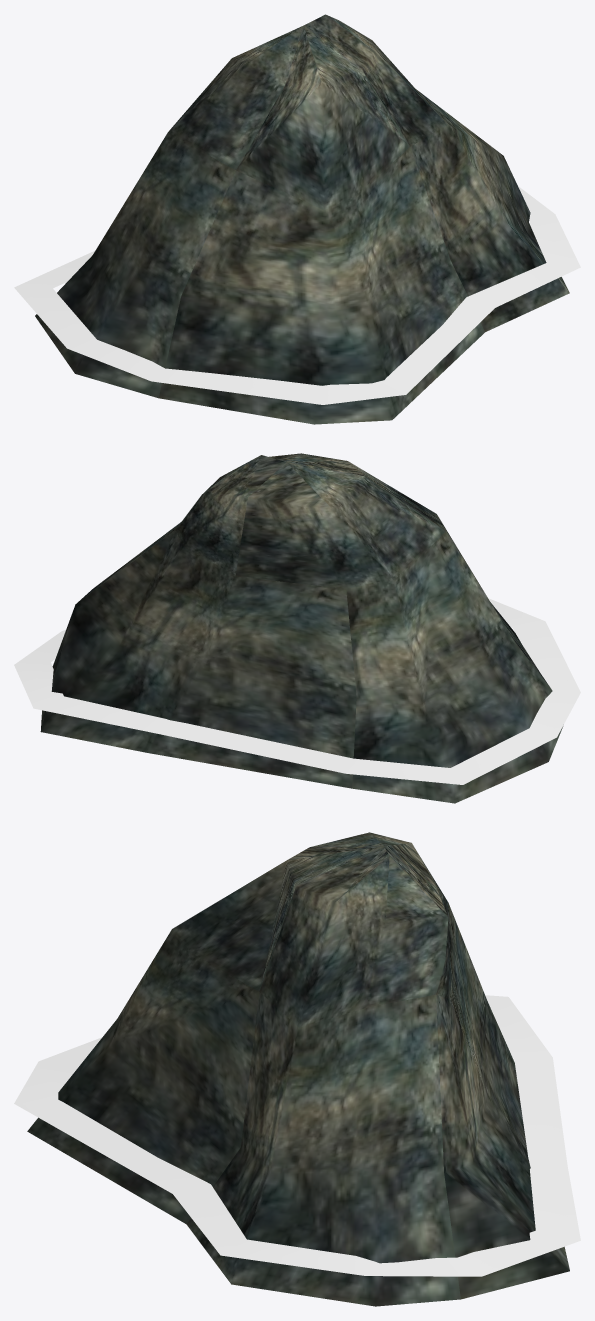
Rendered from pir_m_are_isl_rockBig_dock_lod.fbx.
3 views of the same model, one above another, from view 1: azimuth 30°, elevation 25°; view 2: azimuth 150°, elevation 25°; view 3: azimuth 270°, elevation 25° (orthographic). The views are drawn at different scales.
Parts seen in each view (by area): view 1: terrain_mesh, mesh_tide; view 2: terrain_mesh, mesh_tide; view 3: terrain_mesh, mesh_tide.
Boxes of the visible parts, left/top/right/bottom form: terrain_mesh: left=35, top=14, right=569, bottom=424; mesh_tide: left=14, top=186, right=580, bottom=404; terrain_mesh: left=40, top=453, right=563, bottom=803; mesh_tide: left=14, top=598, right=580, bottom=784; terrain_mesh: left=27, top=832, right=569, bottom=1306; mesh_tide: left=14, top=995, right=580, bottom=1276.
Bounding box in the file's own units: 126090 × 65765 × 103078.
2 materials, 2 textured.
